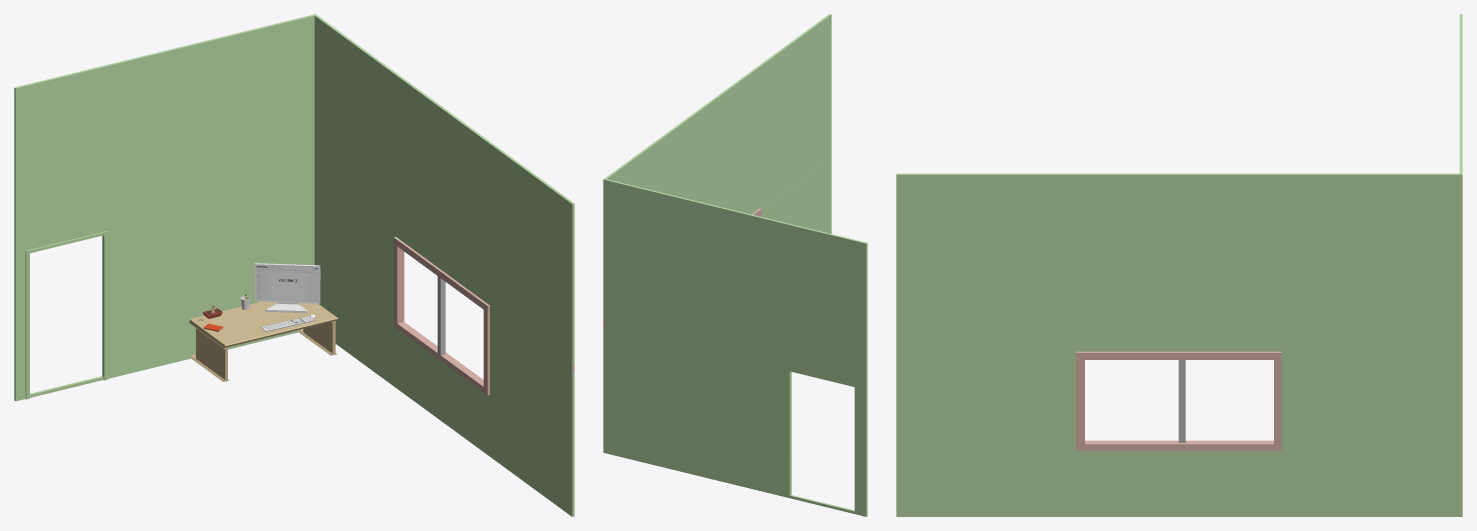
Rendered from Room.fbx.
3 views of the same model, side by side, from view 1: azimuth 30°, elevation 25°; view 2: azimuth 150°, elevation 25°; view 3: azimuth 270°, elevation 25° (orthographic). The views are drawn at different scales.
Parts seen in each view (by area): view 1: FrontWall, SideWall, Table, Cube.005; view 2: FrontWall, SideWall; view 3: SideWall, FrontWall.
Boxes of the visible parts, x1,y1,x2,y2 form: FrontWall: (14,14,314,401); SideWall: (313,14,574,516); Table: (189,301,337,381); Cube.005: (254,263,320,313); FrontWall: (605,179,867,516); SideWall: (603,14,831,452); SideWall: (896,173,1462,516); FrontWall: (1459,14,1462,173).
Size of the model in its own units: 5.08 by 7.5 by 5.
